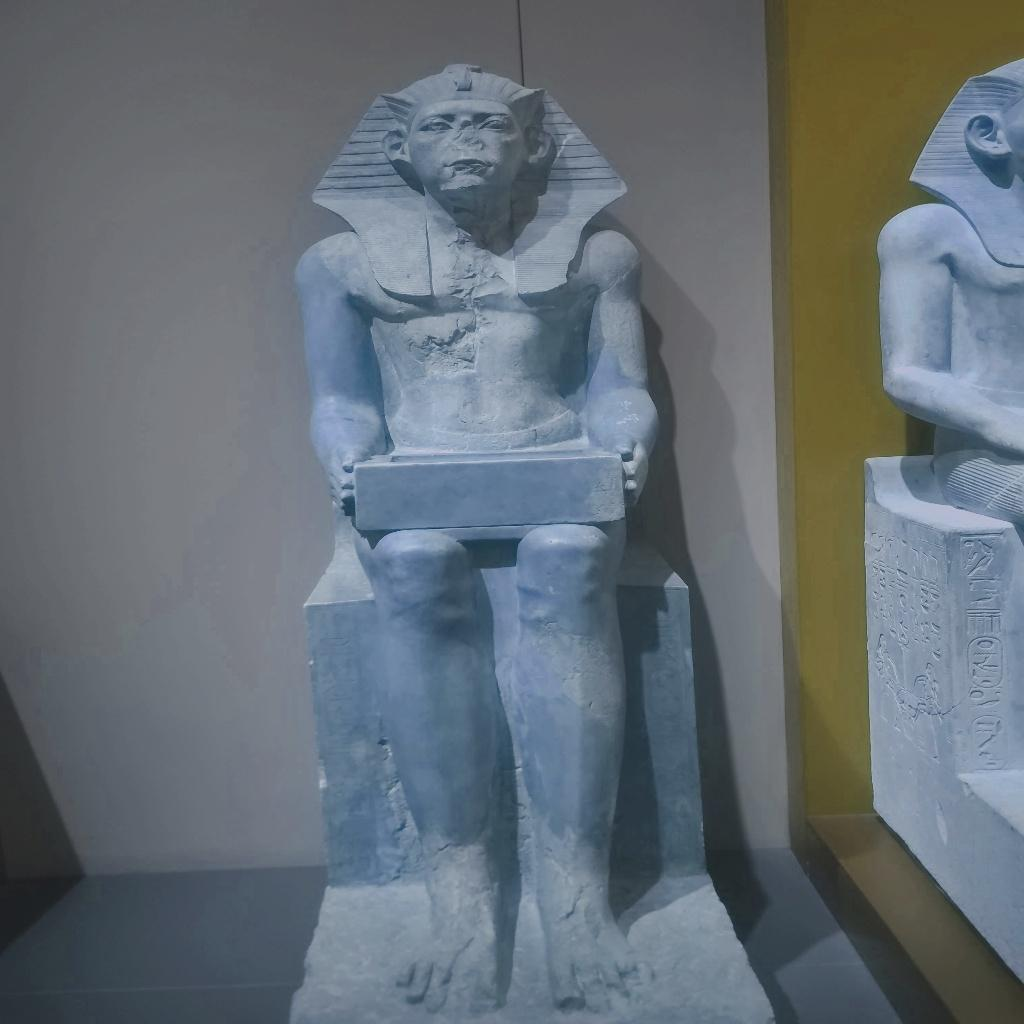Amenhotep III with Plate: (222, 24, 757, 1024)
